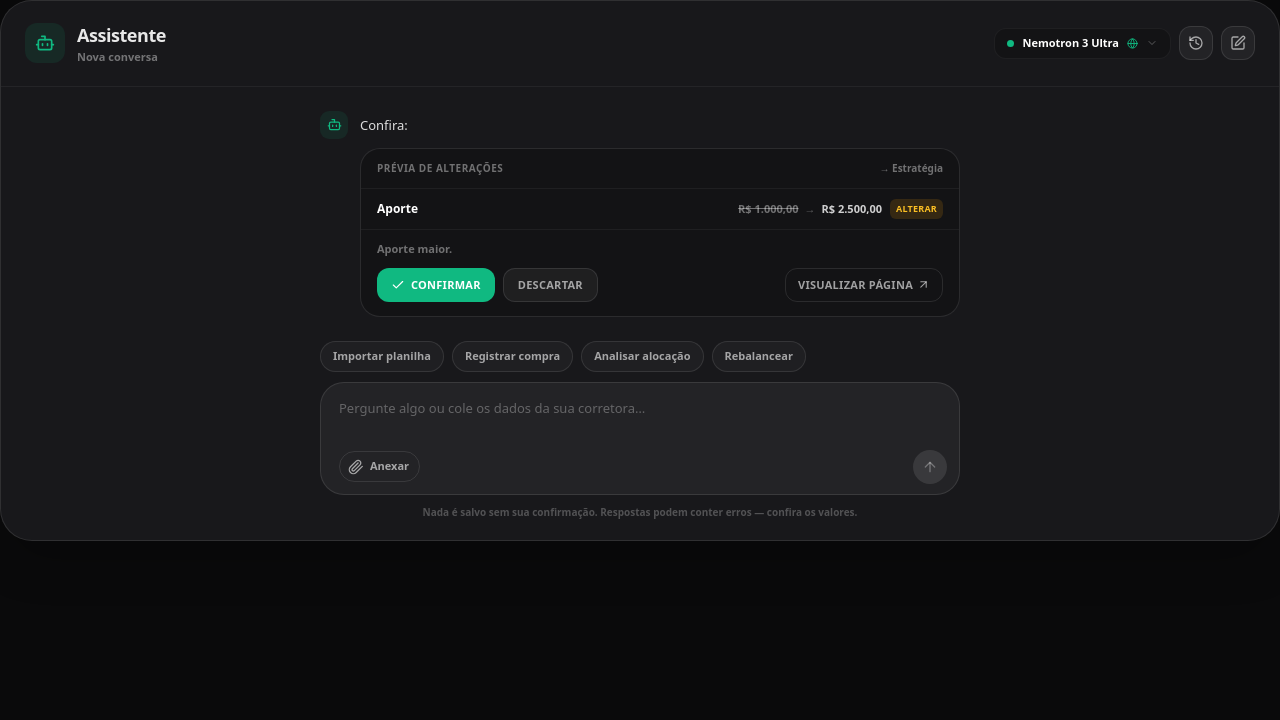
Scenario: ChatPanel › shows a settings proposal as before → after rows and applies it on confirm
Expected: the text "→ Estratégia" is shown, [879,161,943,176]
Expected: the text "Aporte" is shown, [377,200,418,217]
Click the button "Confirmar": click(436, 285) [377,268,495,302]
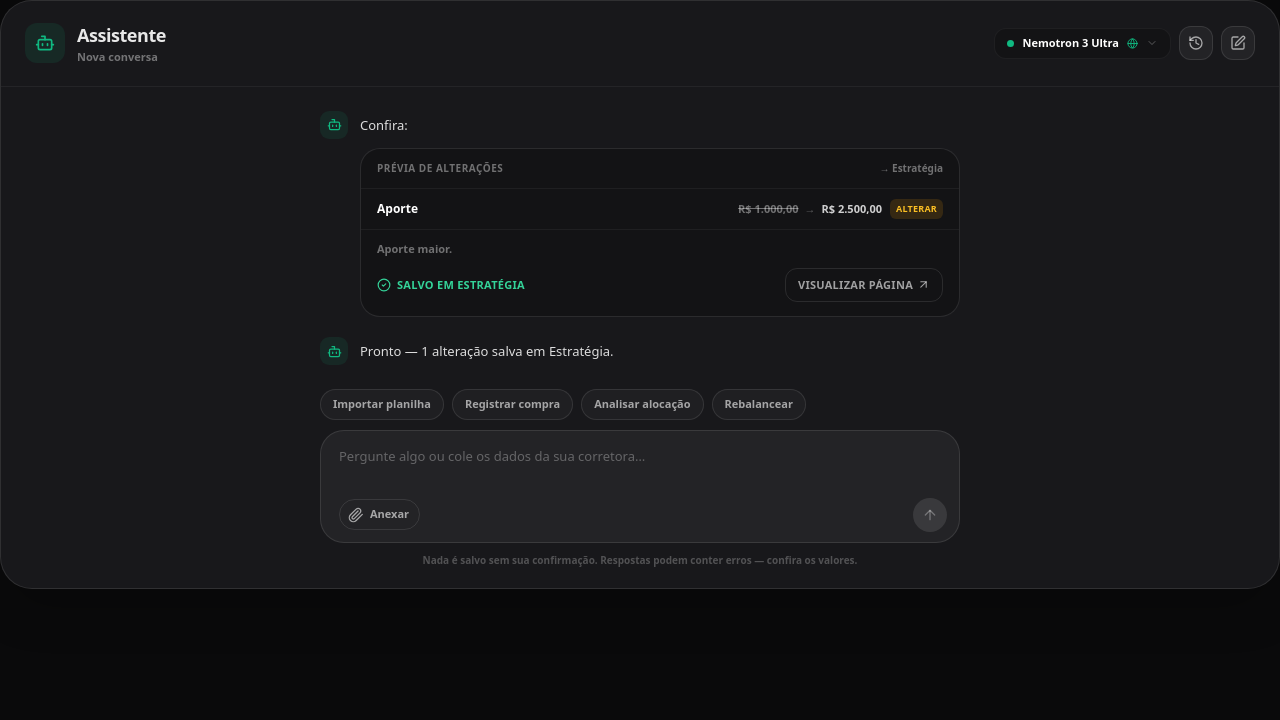
Now the text "Salvo em Estratégia" is shown, box [361,268,959,316]
